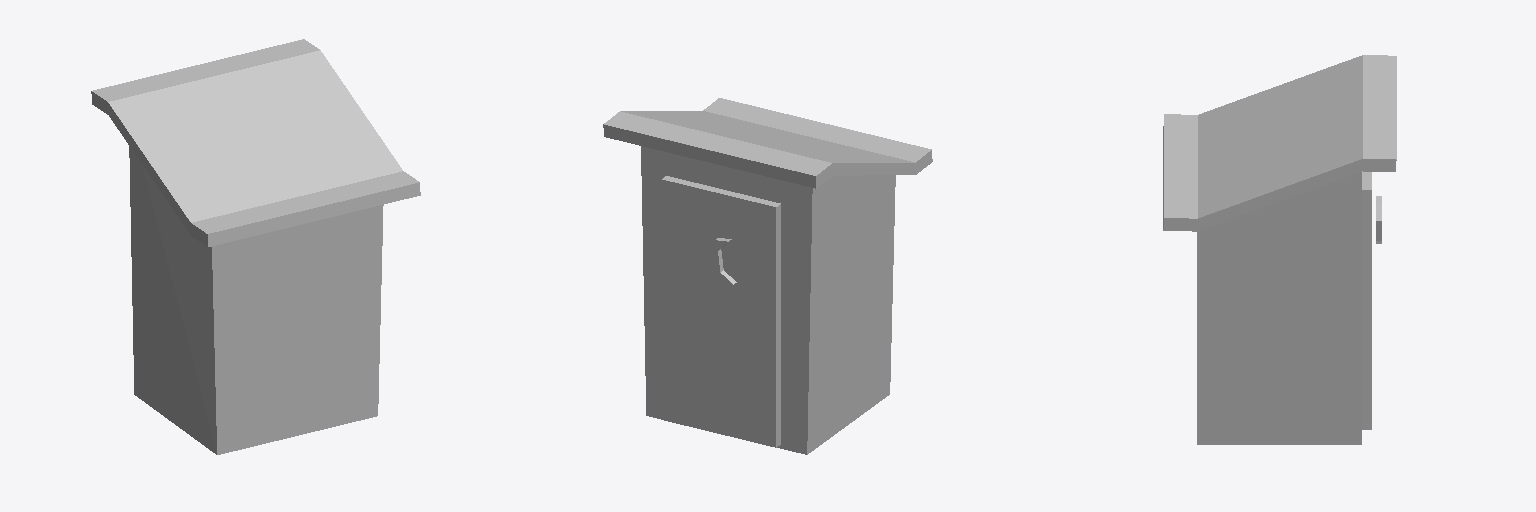
Rendered from potty_1.obj.
The picture shows the model from 3 angles: view 1: azimuth 30°, elevation 25°; view 2: azimuth 150°, elevation 25°; view 3: azimuth 270°, elevation 25°; orthographic projection.
Visible parts, largest first — view 1: building; view 2: building, front door, decoration; view 3: building, front door.
Boxes of the visible parts, box(x1,y1,x2,y2) form: building: box(91, 39, 420, 454); building: box(603, 98, 932, 454); front door: box(661, 176, 780, 447); decoration: box(704, 238, 736, 284); building: box(1163, 55, 1396, 444); front door: box(1362, 171, 1371, 429).
Size of the model in its own units: 0.4625 by 0.6205 by 0.4392.